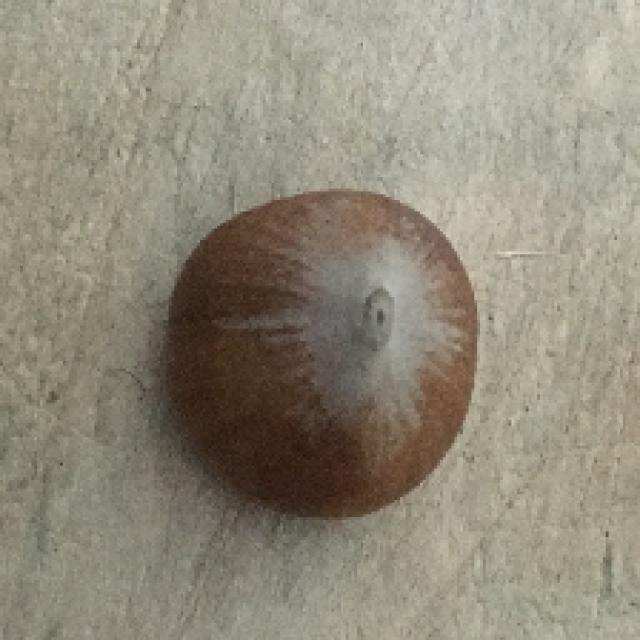QualityHazelnut: (163, 187, 481, 522)
